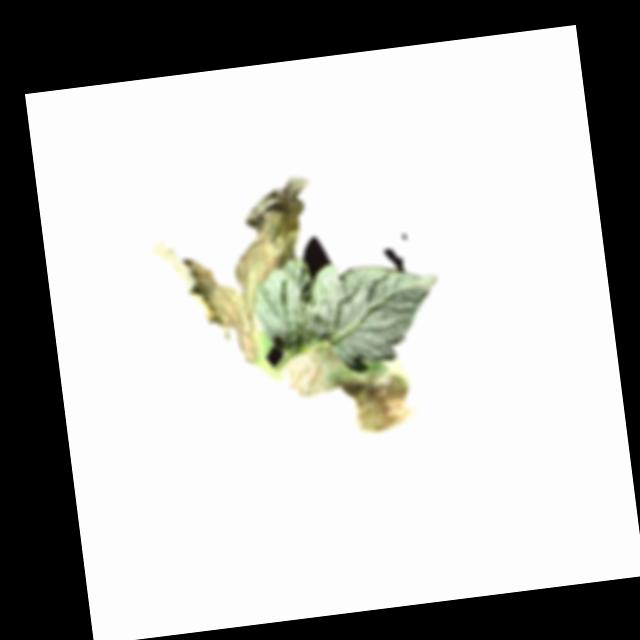Late_blight: (142, 172, 330, 372), (280, 335, 422, 447)
